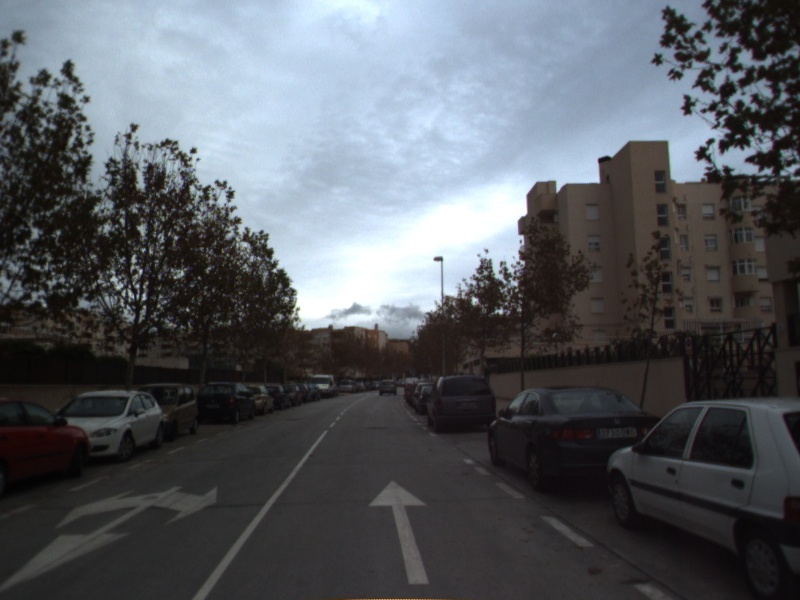STRAIGHT: (366, 477, 433, 587)
